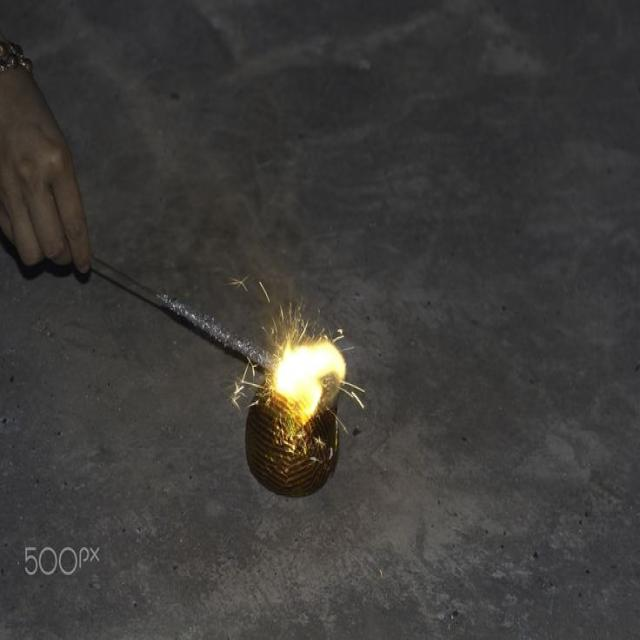fire: (274, 344, 345, 424)
